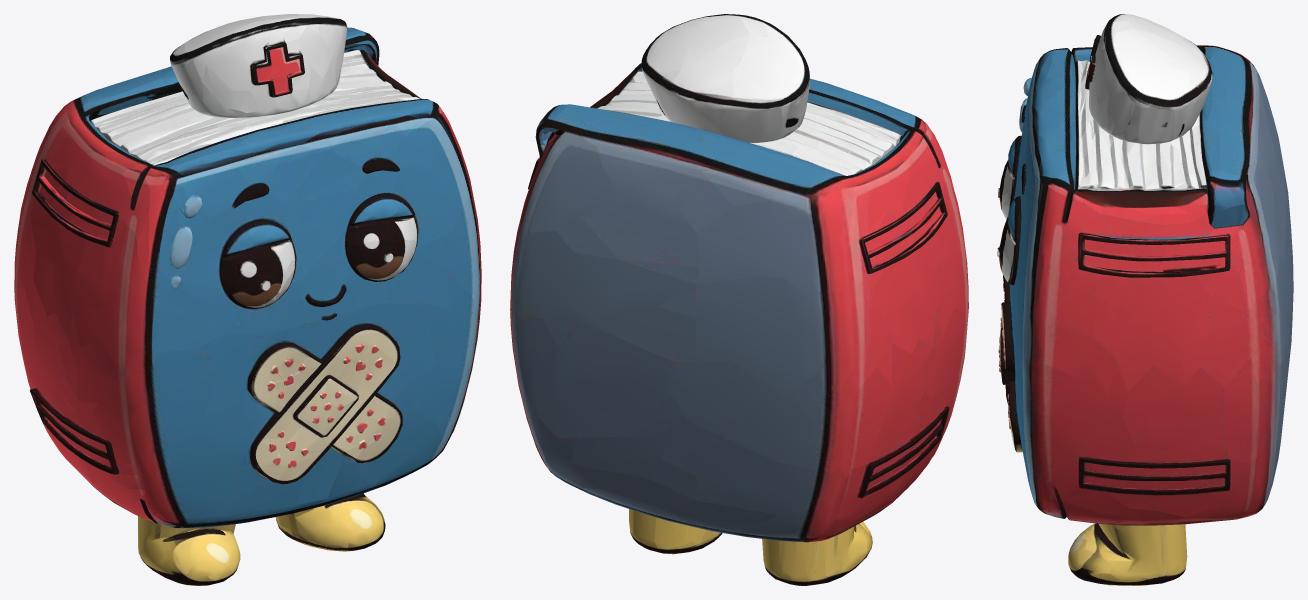
The model's file is creep_healer.glb.
The picture shows the model from 3 angles, left to right: view 1: azimuth 30°, elevation 25°; view 2: azimuth 150°, elevation 25°; view 3: azimuth 270°, elevation 25°; orthographic projection. The views are drawn at different scales.
Bounding box in the file's own units: 1.41 × 1.9 × 0.9909.
1 material, 1 textured.
